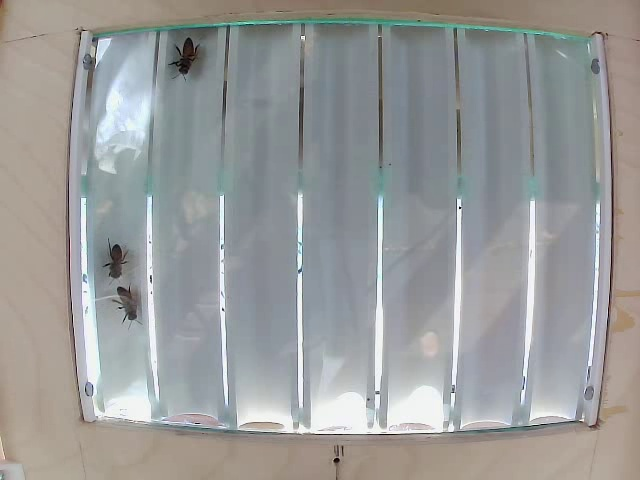bee: (175, 42, 212, 89), (94, 239, 134, 281), (107, 283, 145, 322)
